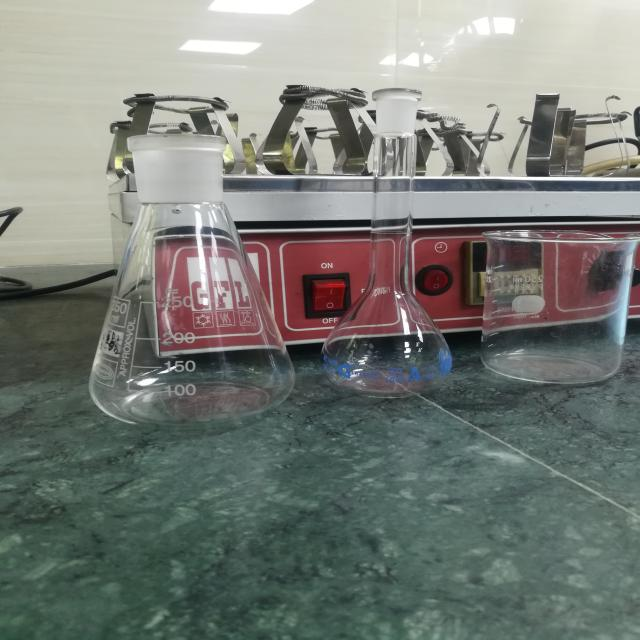Beaker: (480, 202, 640, 394)
Conical_Flask: (82, 108, 308, 446)
Volumetric_Flask: (314, 71, 470, 408)
